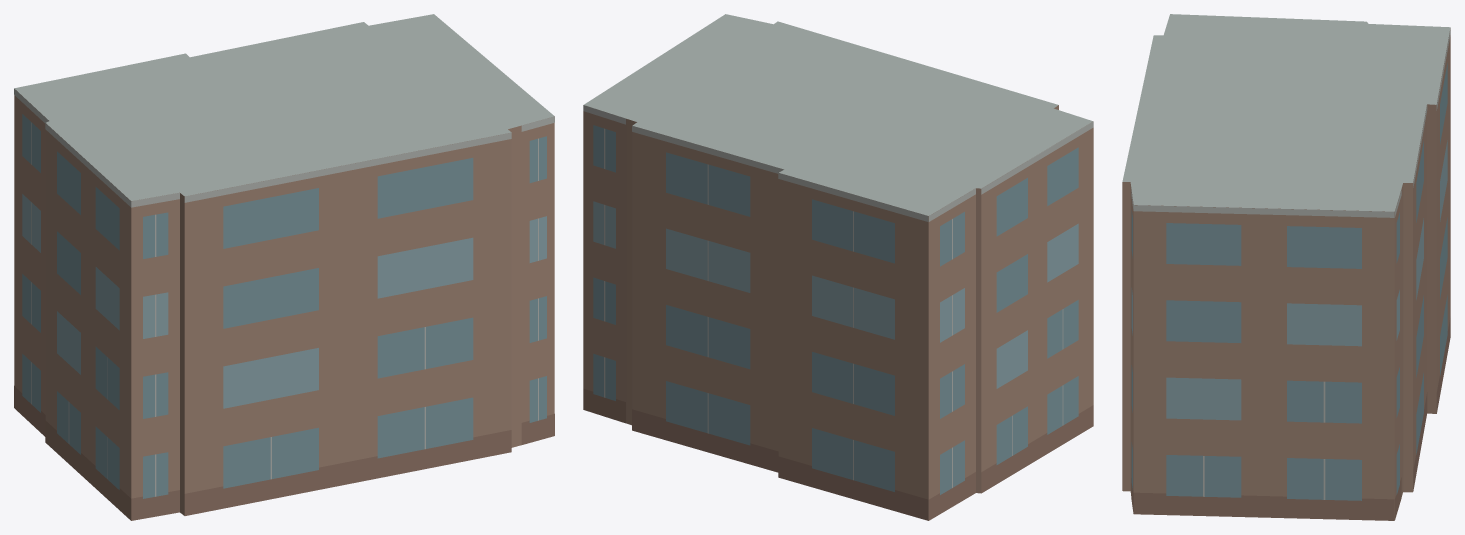
The model's file is survey-upis-32926240.glb.
3 views of the same model, side by side, from view 1: azimuth 30°, elevation 25°; view 2: azimuth 150°, elevation 25°; view 3: azimuth 270°, elevation 25° (orthographic). The views are drawn at different scales.
Visible parts, largest first — view 1: survey-upis-32926240.tmp; view 2: survey-upis-32926240.tmp; view 3: survey-upis-32926240.tmp.
Part boxes in pixels (x1,y1,x2,y2): survey-upis-32926240.tmp: (14, 14, 554, 520); survey-upis-32926240.tmp: (583, 14, 1093, 520); survey-upis-32926240.tmp: (1122, 14, 1450, 520).
Size of the model in its own units: 16.6 by 12.1 by 11.65.
